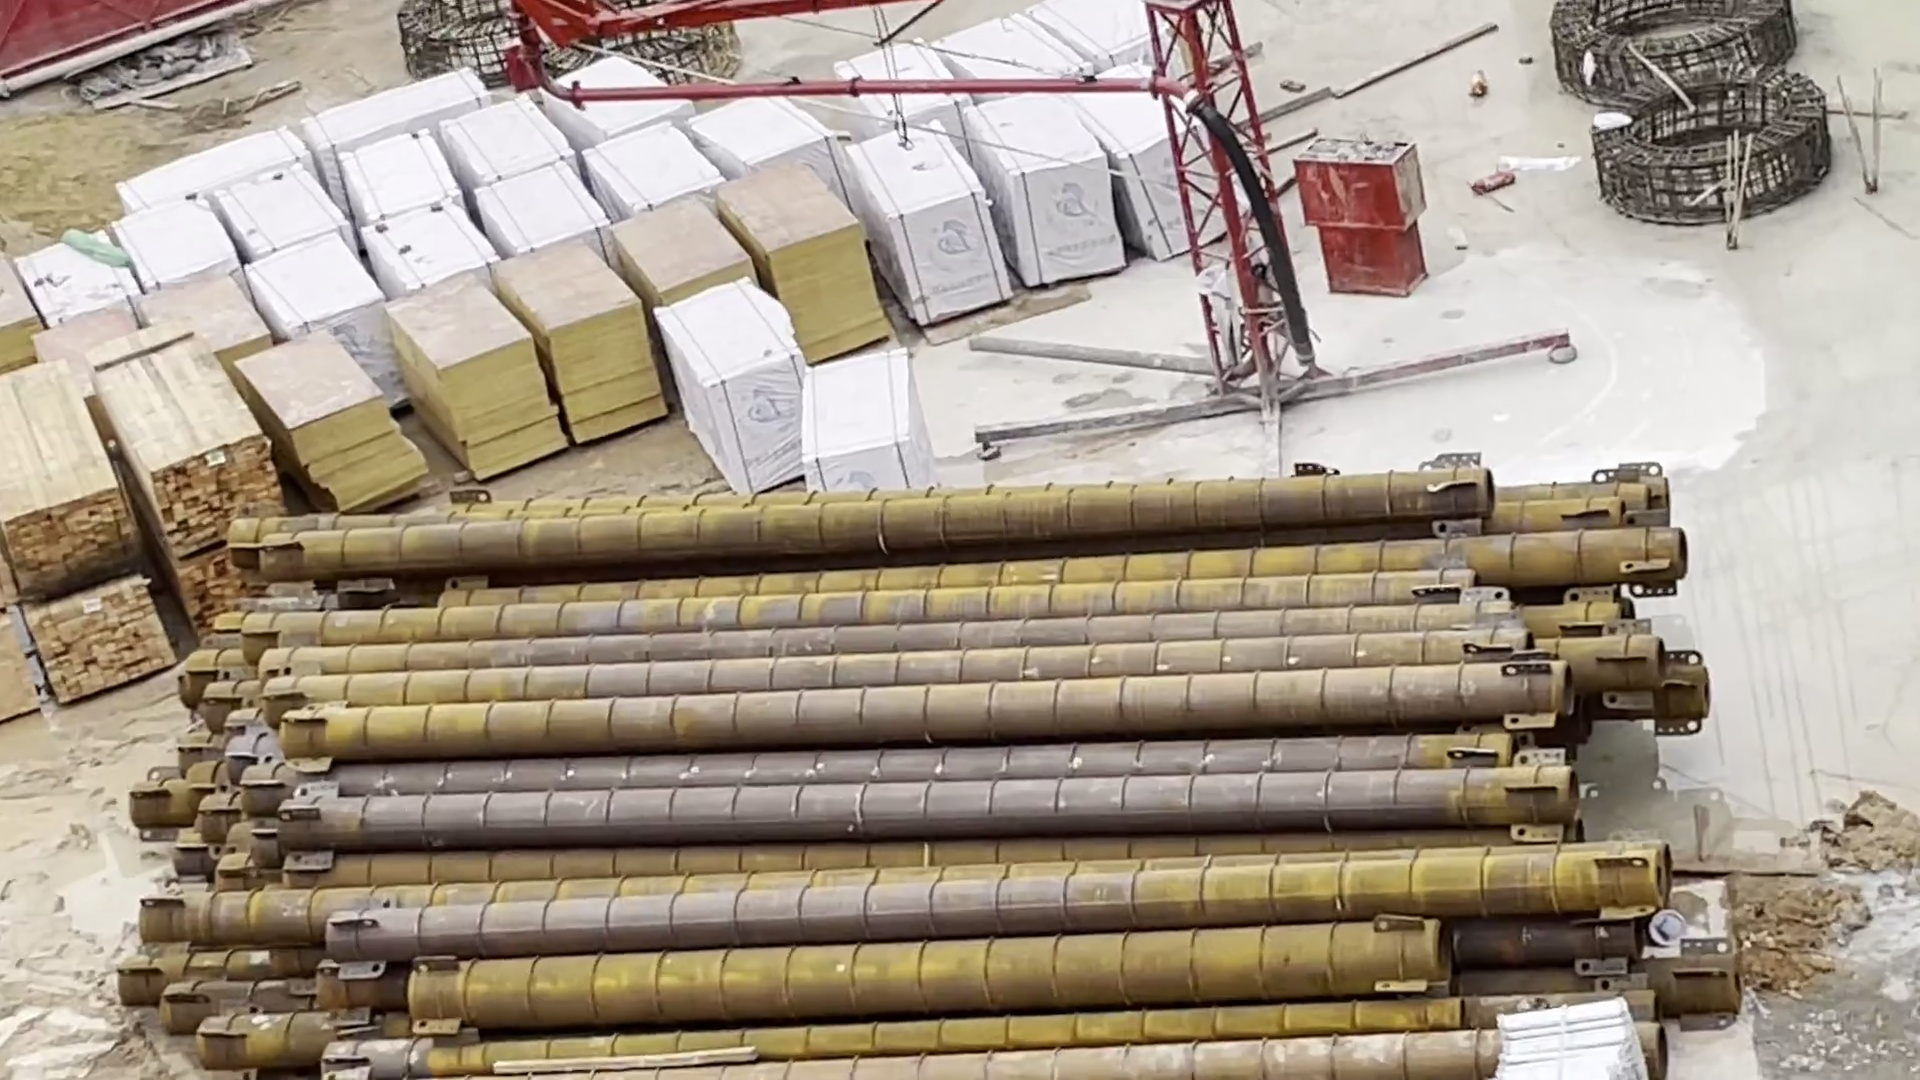board: (262, 247, 680, 496), (611, 175, 923, 365), (41, 282, 280, 364)
scaffold: (1484, 985, 1669, 1080)
wood: (3, 347, 179, 731), (95, 316, 285, 642)
